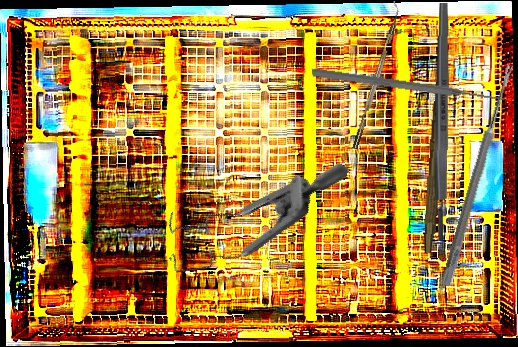Chopper: (345, 0, 405, 150)
Pusher: (311, 66, 507, 106)
Scalpel Handle: (423, 43, 450, 254), (432, 2, 452, 241)
Speculum: (146, 101, 350, 321)
Surgical Spoon: (440, 62, 516, 288)
